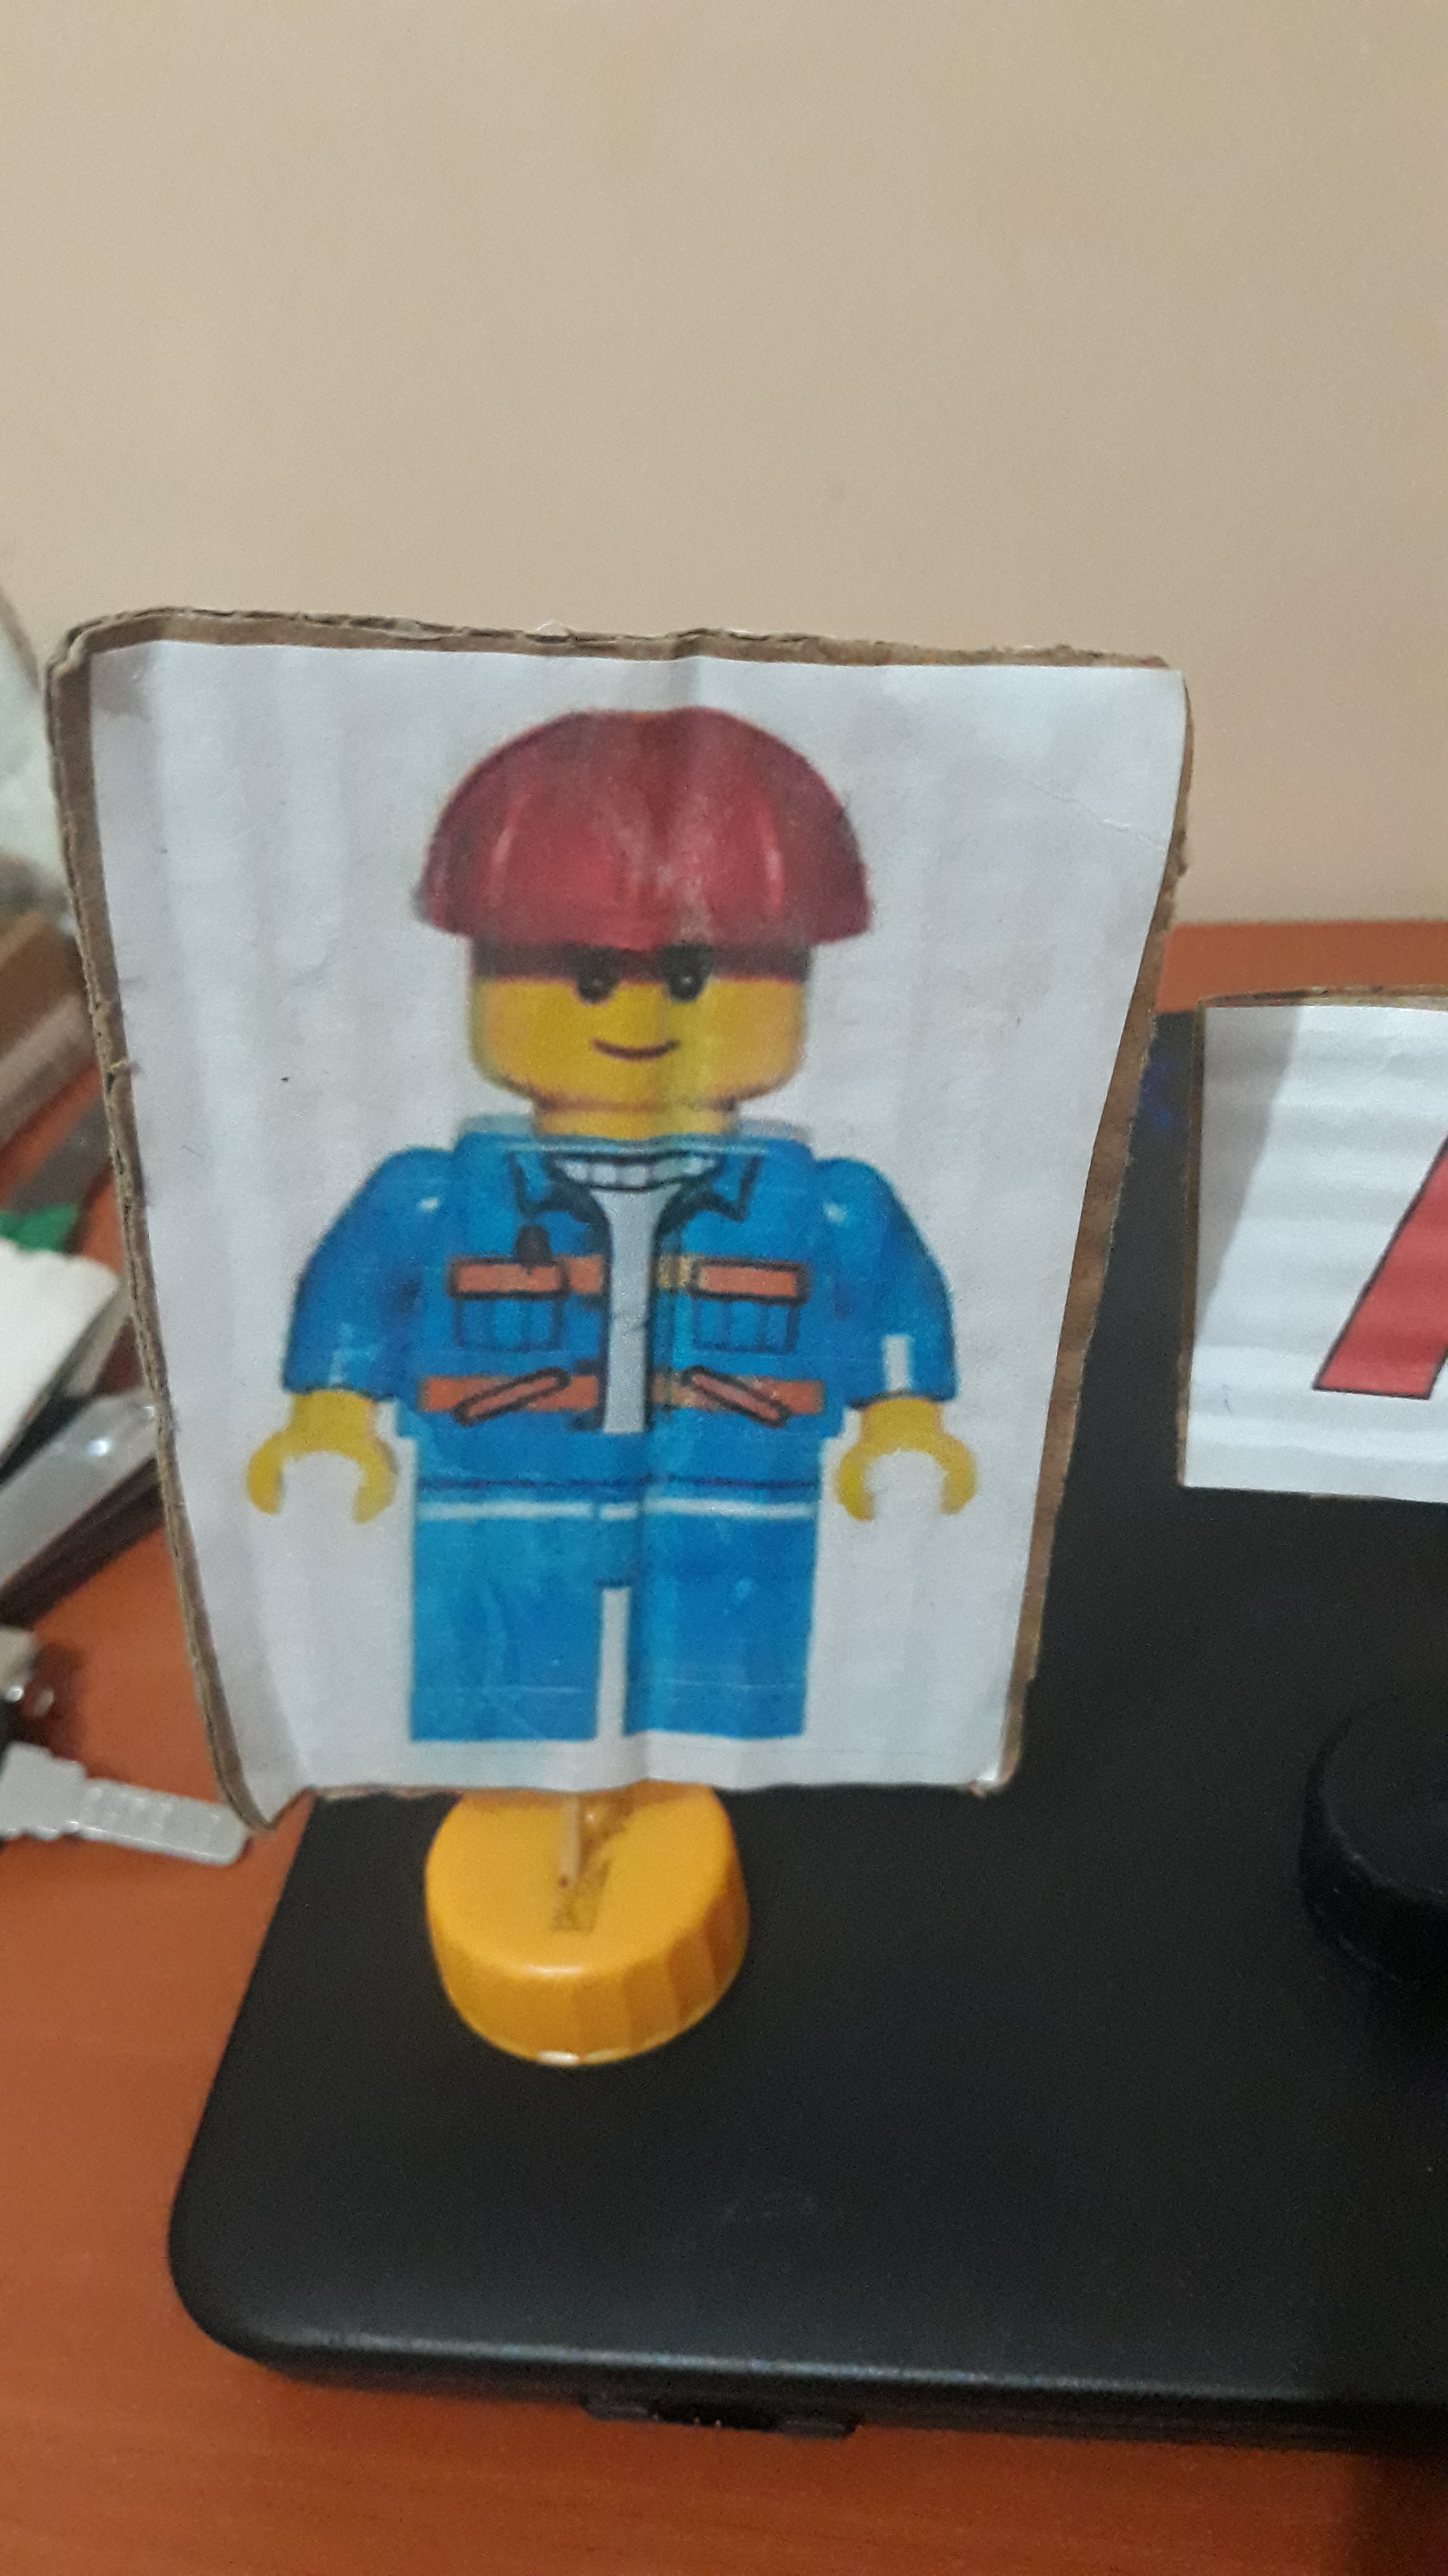pedestrian: (225, 652, 993, 1775)
